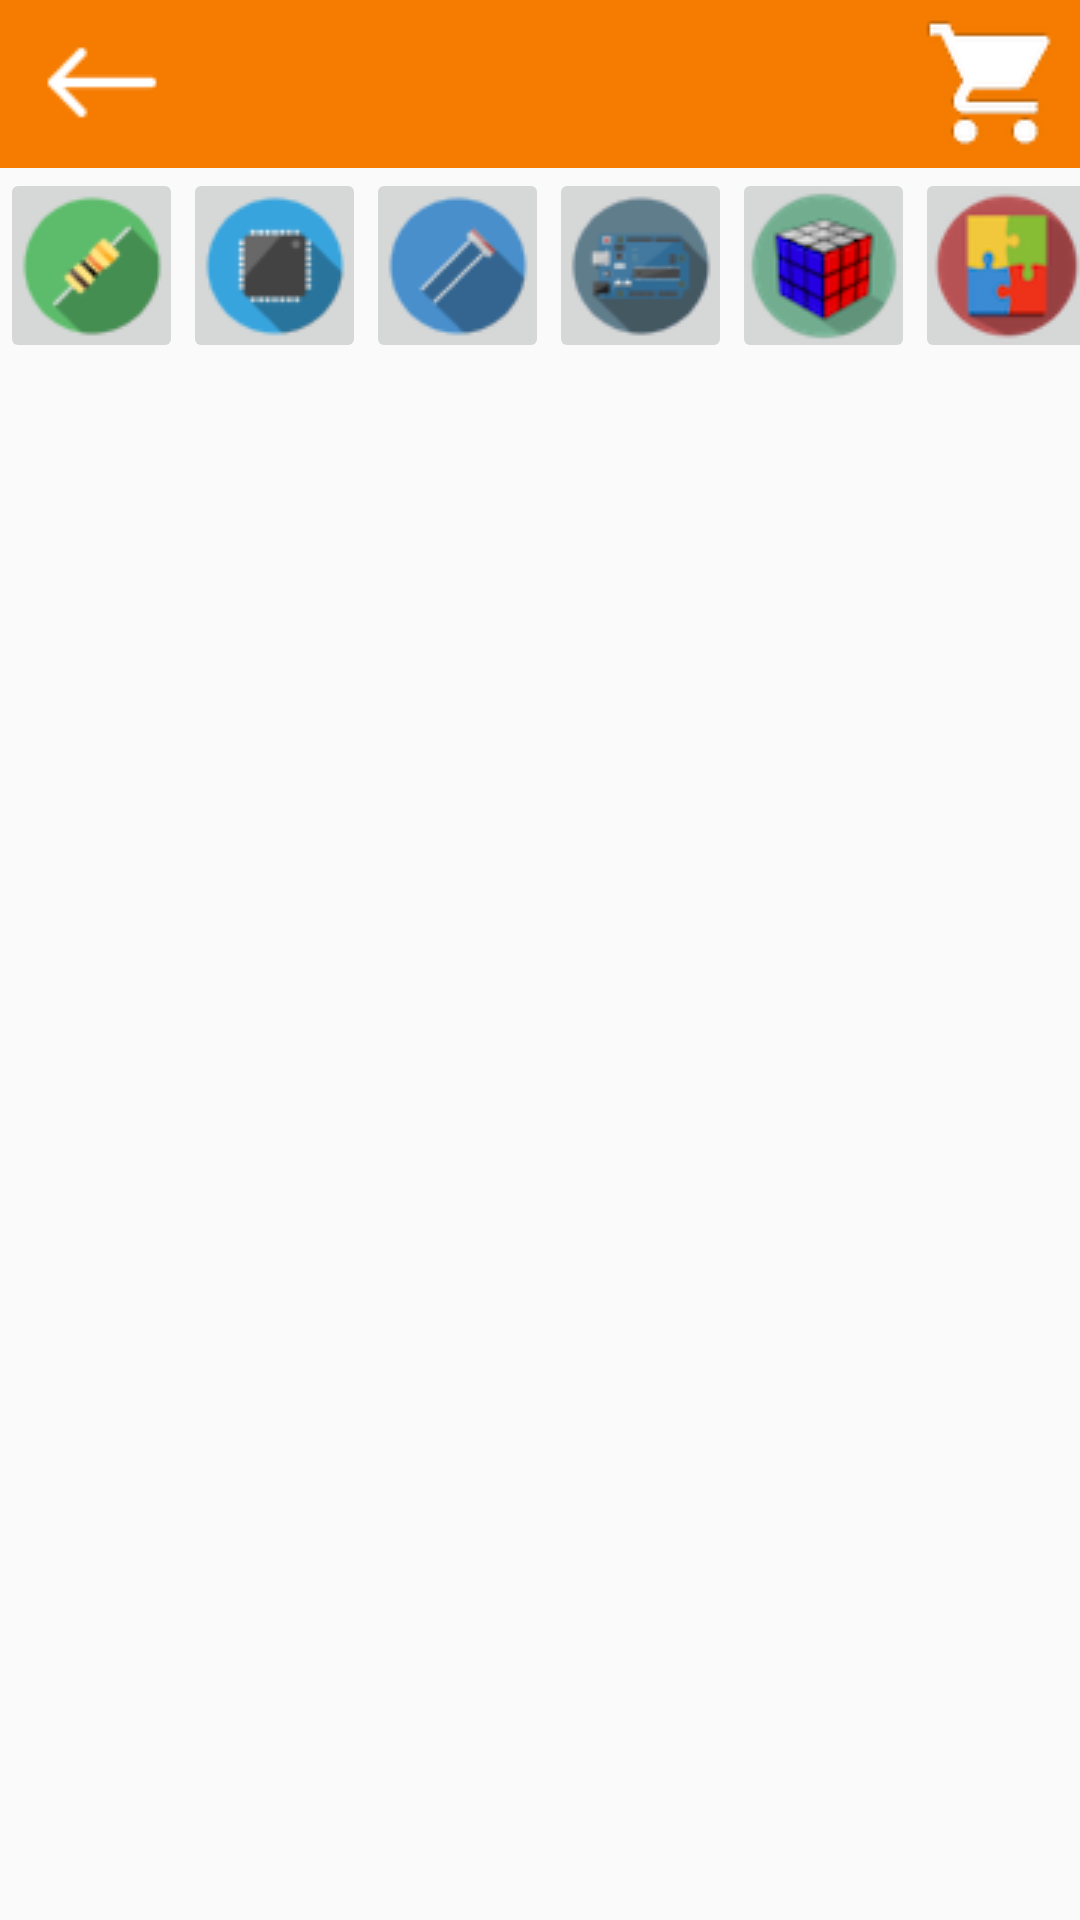

Icons on this 1080 × 1920 Android screen, each with its box as (x1, y1, x2, y2):
carticon: (927, 21, 1051, 145)
chips: (195, 186, 354, 345)
components: (12, 186, 171, 345)
left arrow: (47, 47, 157, 118)
sensors: (378, 186, 537, 345)
